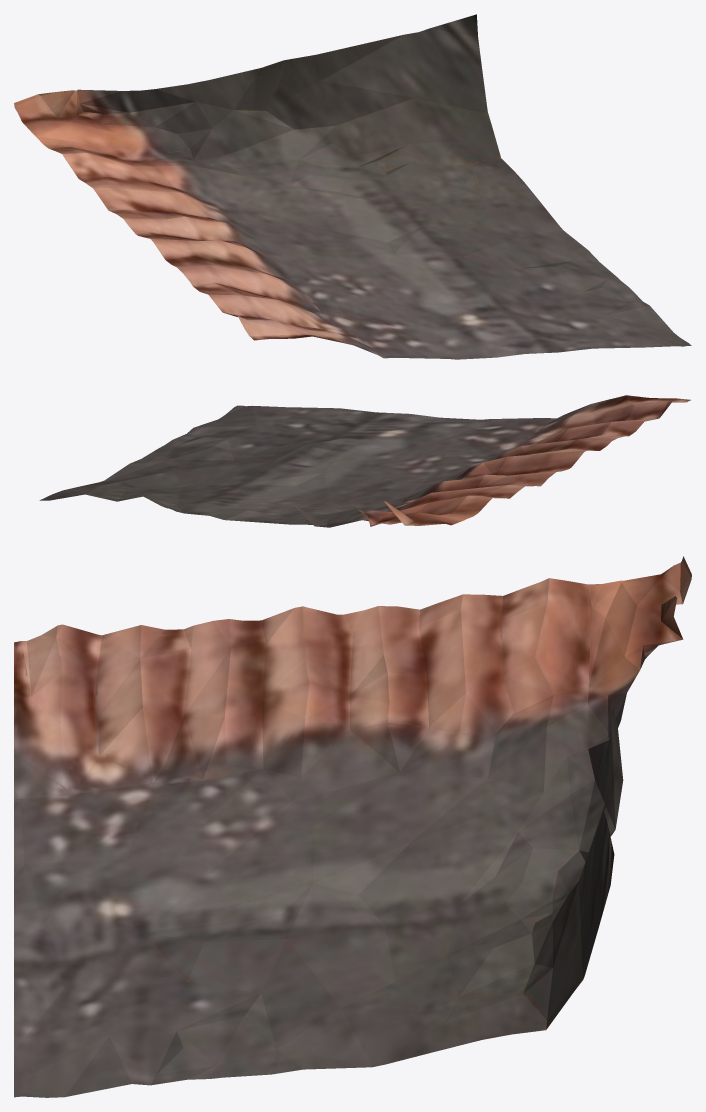
3 views of the same model, one above another, from view 1: azimuth 30°, elevation 25°; view 2: azimuth 150°, elevation 25°; view 3: azimuth 270°, elevation 25° (orthographic). The views are drawn at different scales.
Bounding box in the file's own units: 1.67 × 0.6377 × 1.61.
2 materials, 2 textured.
